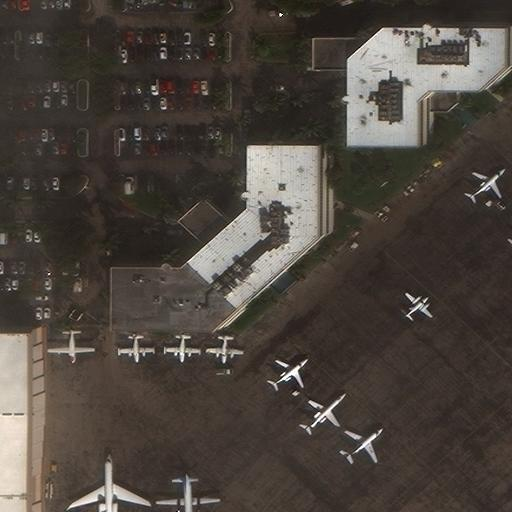Medium Civil Transport: (65, 454, 152, 512), (156, 473, 220, 512), (46, 329, 95, 363), (345, 427, 383, 462)
Small Civil Transport: (304, 393, 345, 431), (204, 334, 243, 363), (163, 332, 200, 362), (117, 334, 155, 363), (470, 168, 505, 198), (271, 359, 308, 387), (404, 291, 432, 319)
